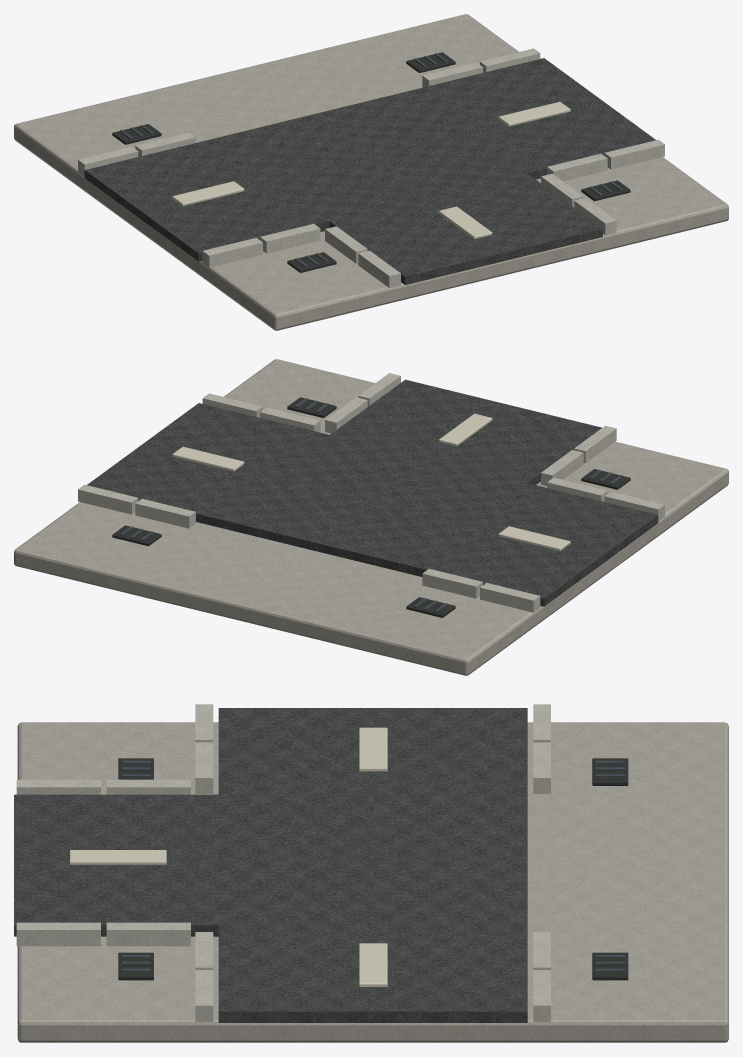
The model's file is ROAD_LOCAL_1x1_T.glb.
3 renders of one model, top to bottom at view 1: azimuth 30°, elevation 25°; view 2: azimuth 150°, elevation 25°; view 3: azimuth 270°, elevation 25°, orthographic. The views are drawn at different scales.
Parts seen in each view (by area): view 1: ROAD_LOCAL_1x1_T_Visual; view 2: ROAD_LOCAL_1x1_T_Visual; view 3: ROAD_LOCAL_1x1_T_Visual.
Part boxes in pixels (x1,y1,x2,y2): ROAD_LOCAL_1x1_T_Visual: (14, 14, 728, 330); ROAD_LOCAL_1x1_T_Visual: (14, 359, 728, 675); ROAD_LOCAL_1x1_T_Visual: (14, 704, 728, 1042).
Size of what is drawn, in the model's own units: 2 by 0.12 by 1.99.
6 materials, 4 textured.
